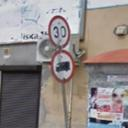speed_limit_30: (46, 14, 73, 50)
